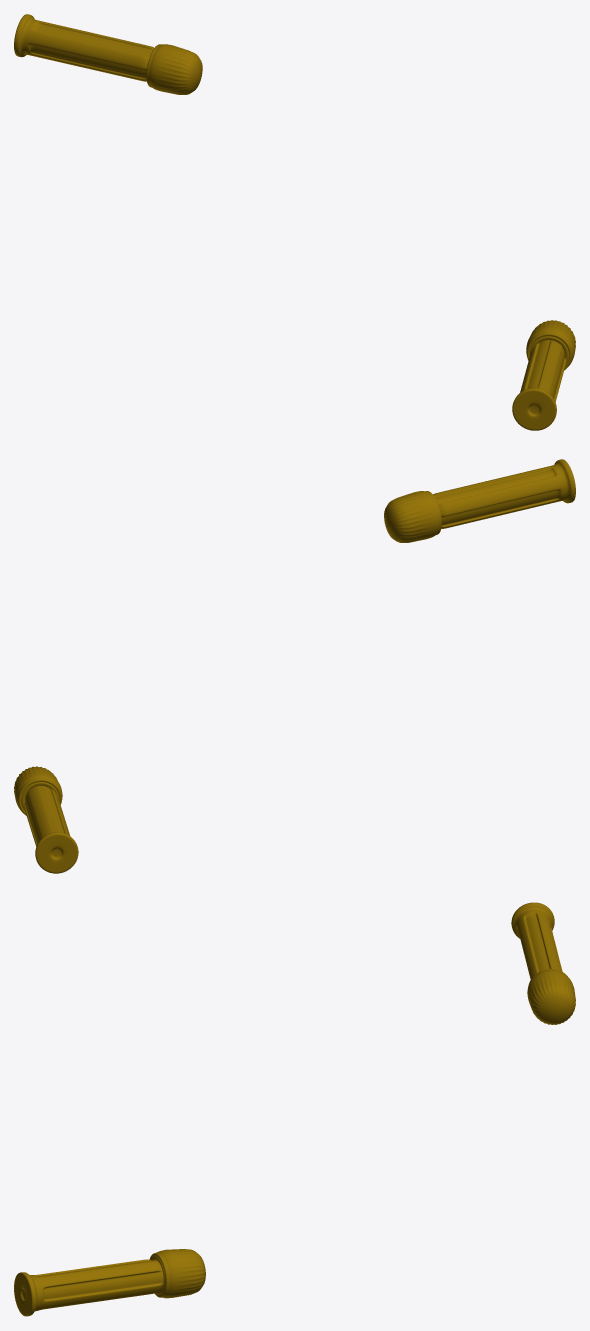
3 views of the same model, one above another, from view 1: azimuth 30°, elevation 25°; view 2: azimuth 150°, elevation 25°; view 3: azimuth 330°, elevation 25° (orthographic).
Parts seen in each view (by area): view 1: Manubrio.003; view 2: Manubrio.003; view 3: Manubrio.003.
Boxes of the visible parts, bbox=[...] form: Manubrio.003: bbox=[14, 14, 575, 430]; Manubrio.003: bbox=[14, 459, 575, 873]; Manubrio.003: bbox=[14, 902, 575, 1316].
Size of the model in its own units: 4.36 by 1.64 by 31.4.
